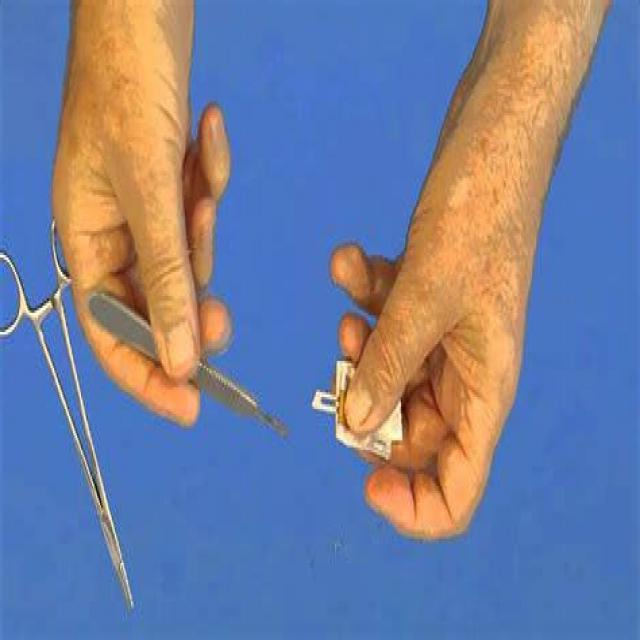Scalpel: (88, 288, 292, 448), (309, 384, 336, 416)
